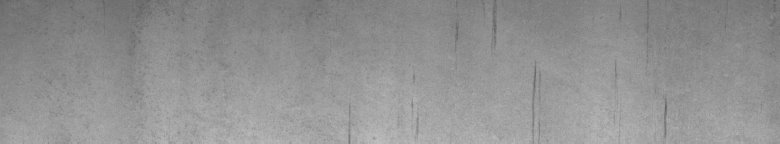ka: (615, 64, 670, 136)
